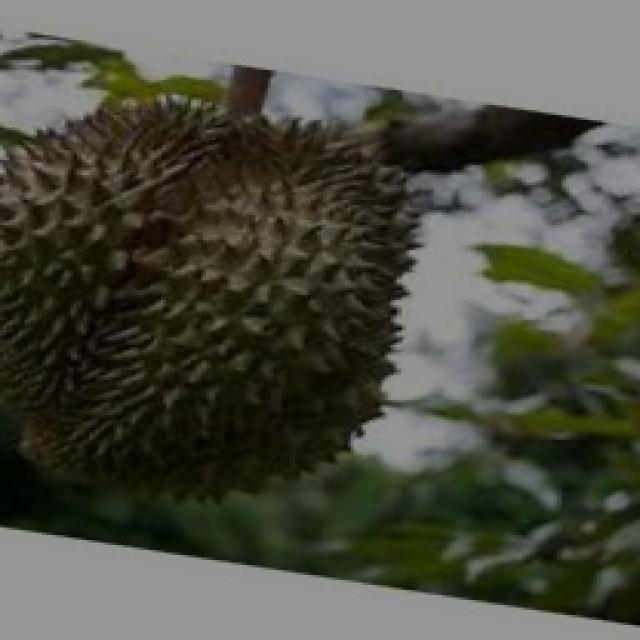fruit: (6, 85, 443, 540)
